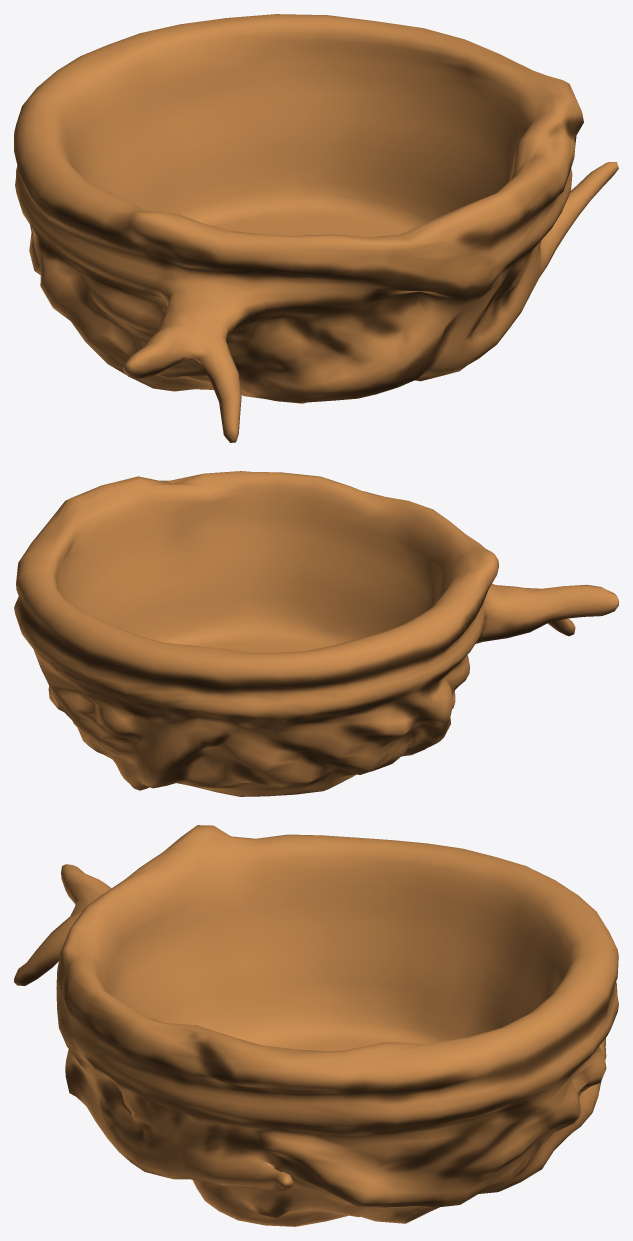
File: SM_TbNest_01.fbx
3 views of the same model, one above another, from view 1: azimuth 30°, elevation 25°; view 2: azimuth 150°, elevation 25°; view 3: azimuth 270°, elevation 25° (orthographic). The views are drawn at different scales.
Parts seen in each view (by area): view 1: Nest; view 2: Nest; view 3: Nest.
Boxes of the visible parts, left/top/right/bottom form: Nest: left=14, top=14, right=618, bottom=442; Nest: left=14, top=471, right=618, bottom=796; Nest: left=14, top=825, right=618, bottom=1226.
Size of the model in its own units: 4.22 by 1.63 by 3.69.
Materials: 1 (1 with a texture image).
